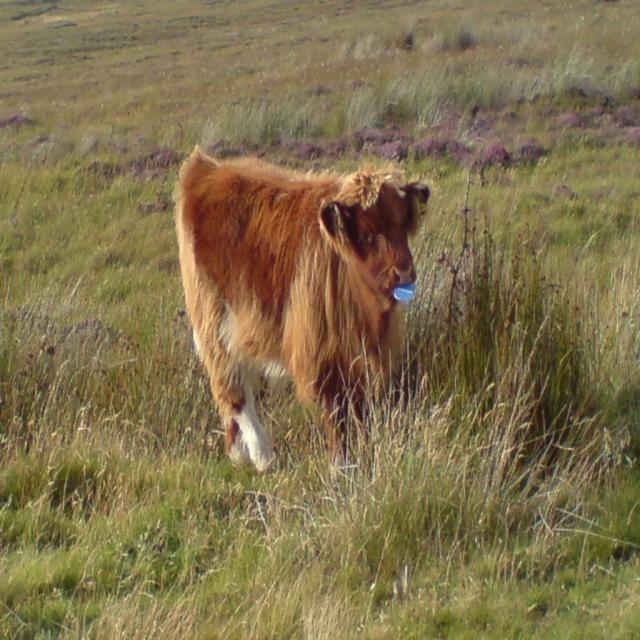Cattle: (172, 145, 430, 475)
